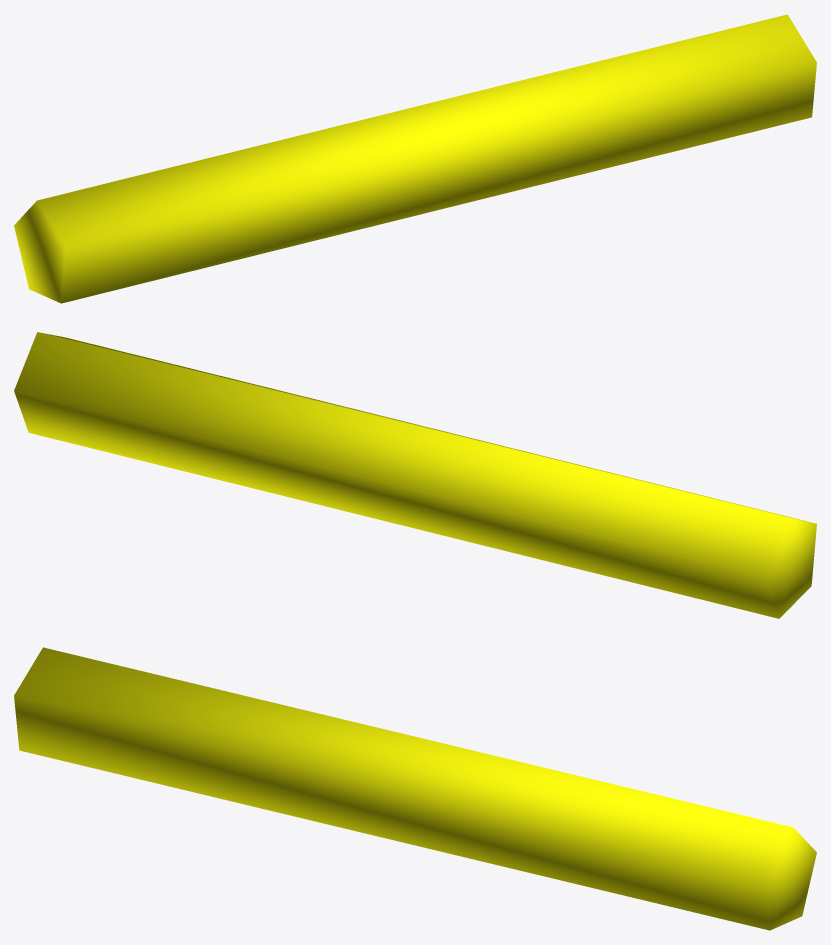
The model's file is disparo0.fbx.
3 renders of one model, top to bottom at view 1: azimuth 30°, elevation 25°; view 2: azimuth 150°, elevation 25°; view 3: azimuth 330°, elevation 25°, orthographic.
Visible parts, largest first — view 1: Cylinder; view 2: Cylinder; view 3: Cylinder.
Part boxes in pixels (left/top/right/bottom): Cylinder: left=14, top=14, right=816, bottom=303; Cylinder: left=14, top=332, right=816, bottom=618; Cylinder: left=14, top=647, right=816, bottom=930.
Bounding box in the file's own units: 16.01 × 1.99 × 1.93.
